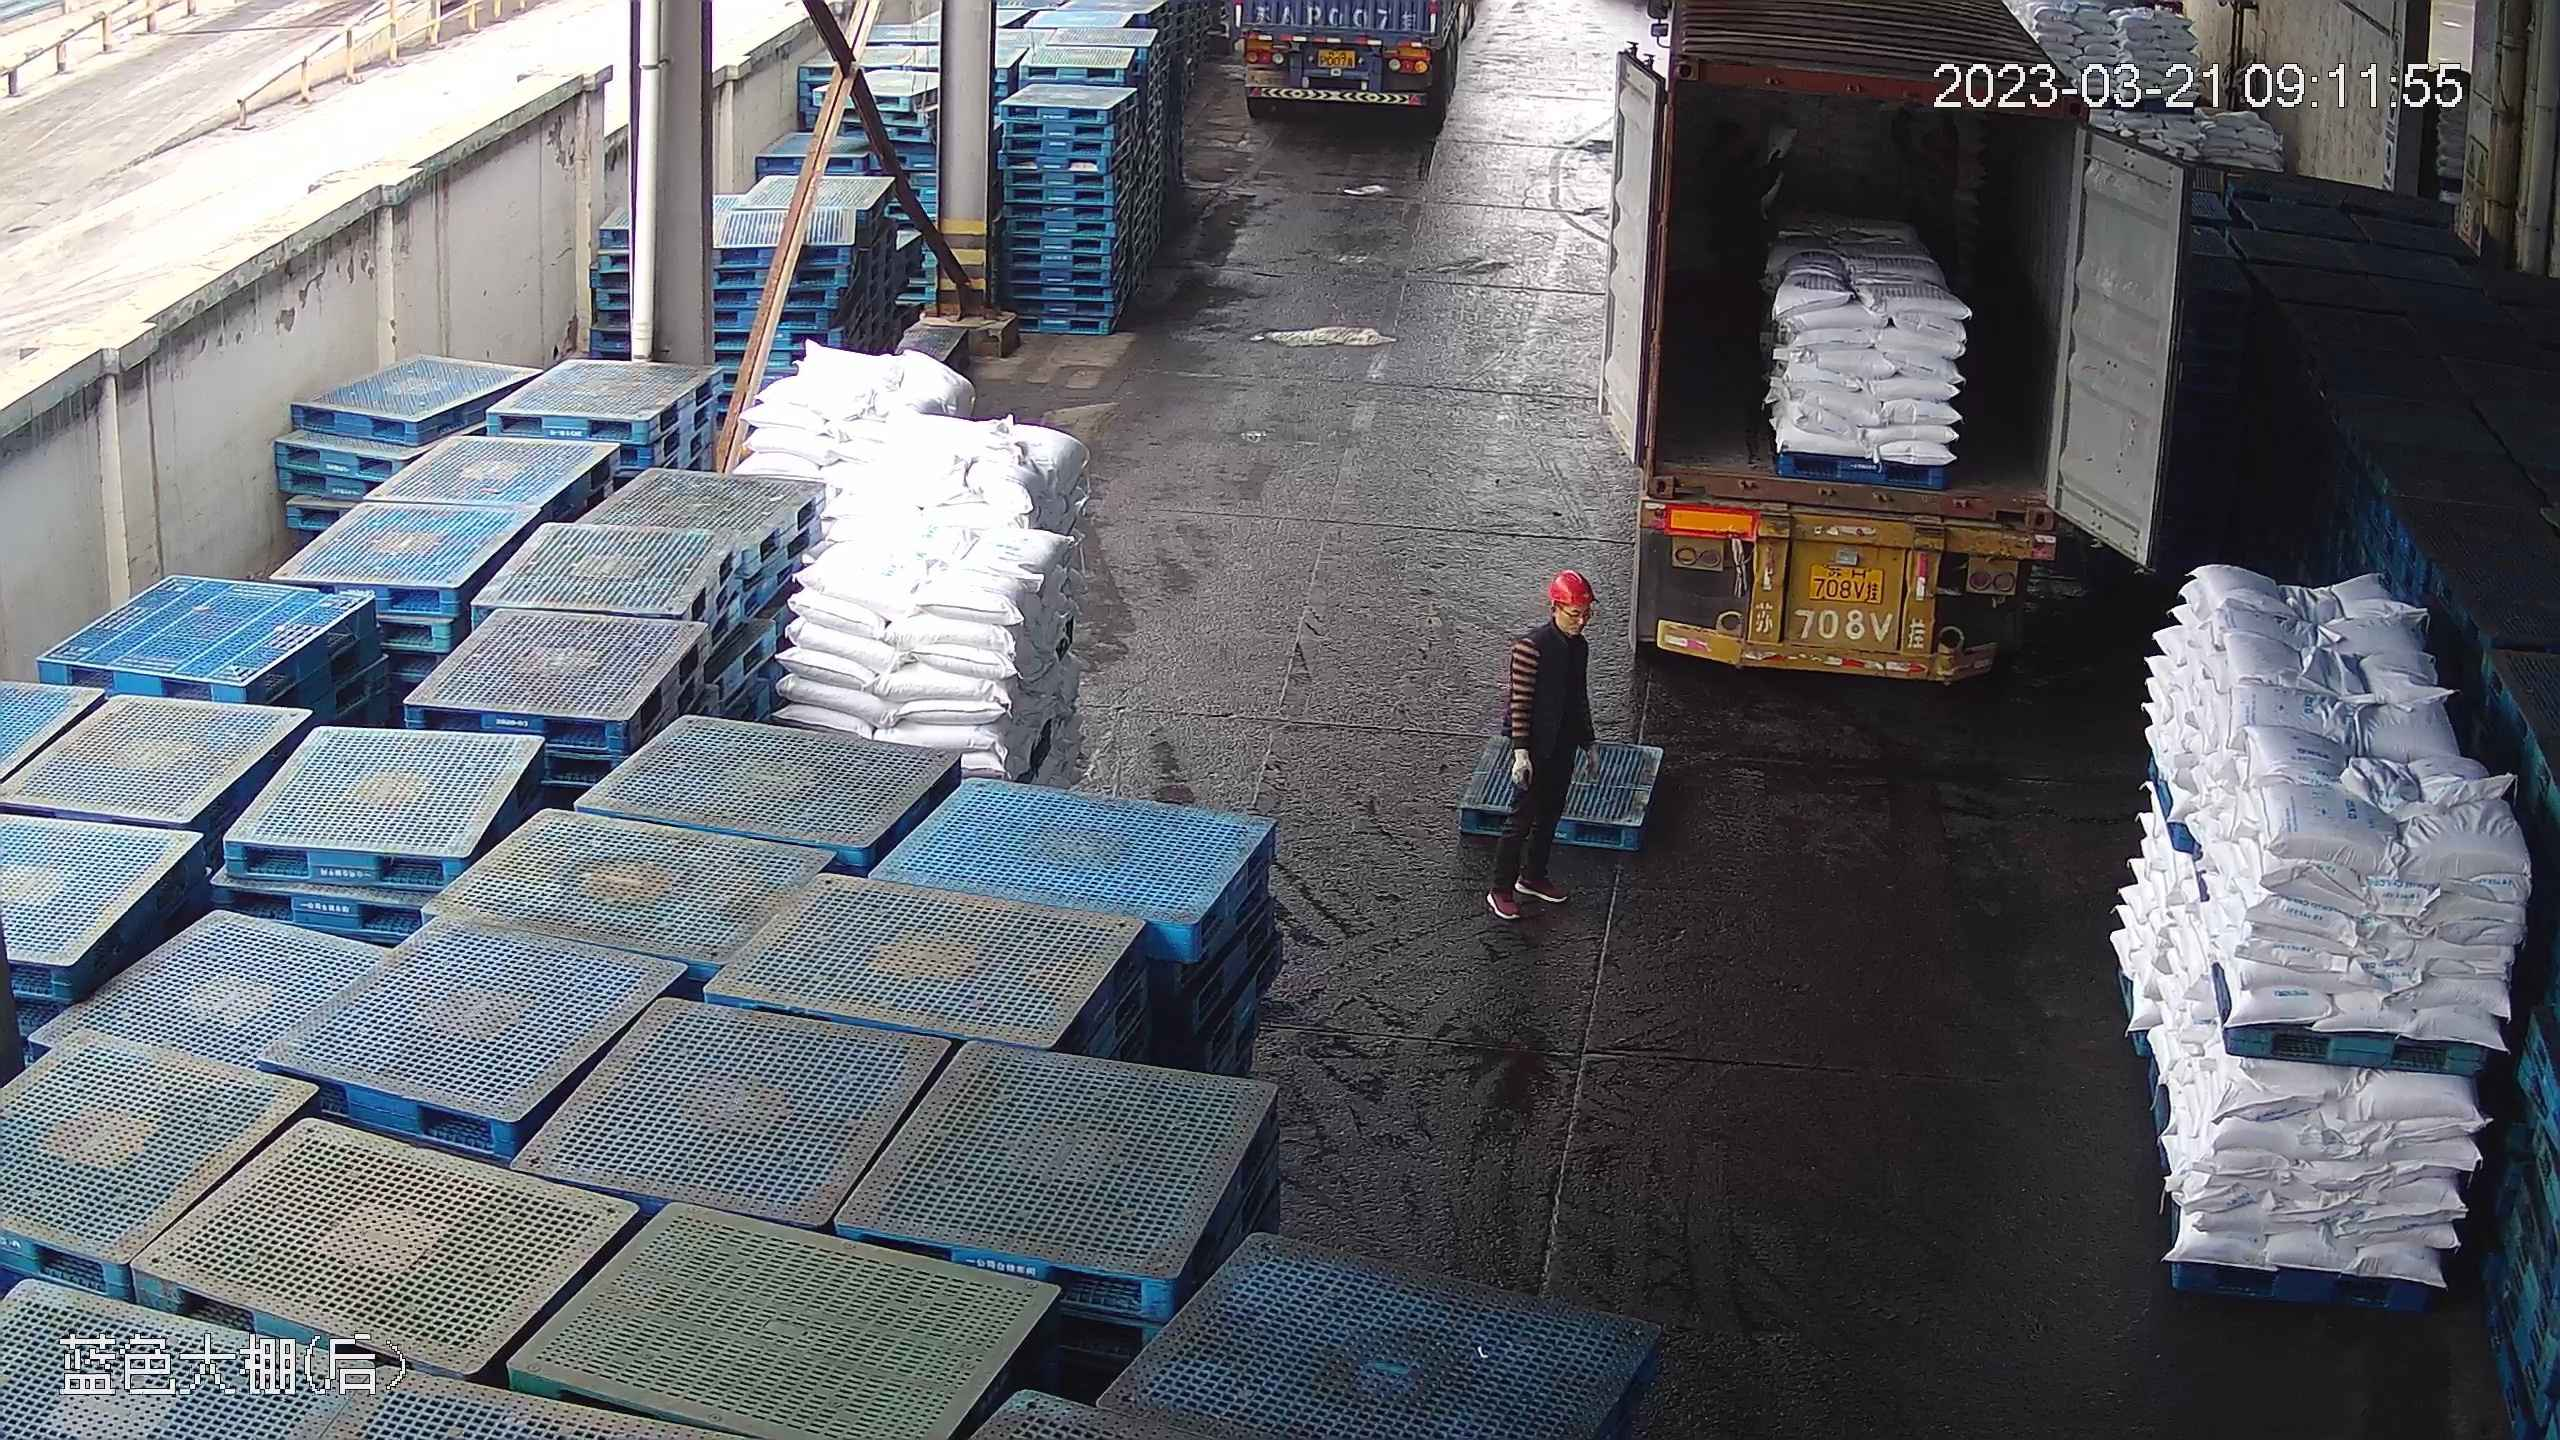head: (1518, 568, 1601, 680)
helmet: (1544, 566, 1595, 609)
people: (1487, 569, 1603, 914)
truck: (1605, 10, 2090, 691)
